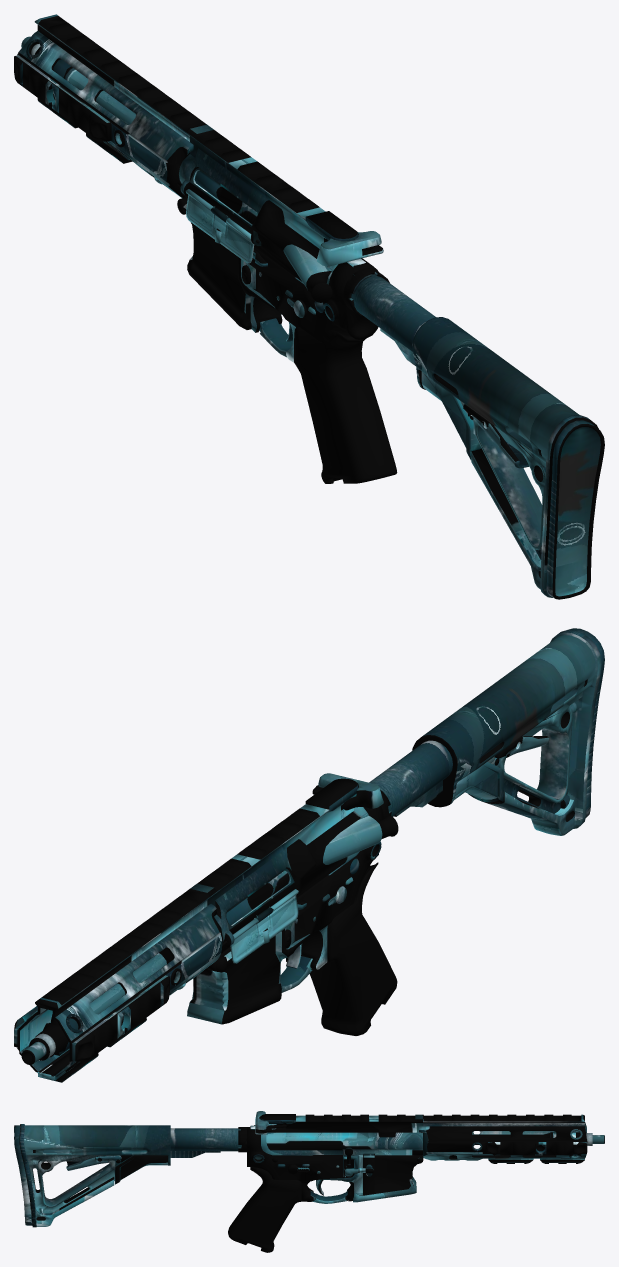
Rendered from R4C-Black-Ice.glb.
3 renders of one model, top to bottom at view 1: azimuth 30°, elevation 25°; view 2: azimuth 150°, elevation 25°; view 3: azimuth 270°, elevation 25°, orthographic. The views are drawn at different scales.
Visible parts, largest first — view 1: R4C Black Ice; view 2: R4C Black Ice; view 3: R4C Black Ice.
Boxes of the visible parts, box(x1,y1,x2,y2) form: R4C Black Ice: box(14, 14, 604, 599); R4C Black Ice: box(14, 628, 604, 1082); R4C Black Ice: box(14, 1111, 604, 1252).
Size of the model in its own units: 0.0476 by 0.1397 by 0.5675.
1 material, 1 textured.
